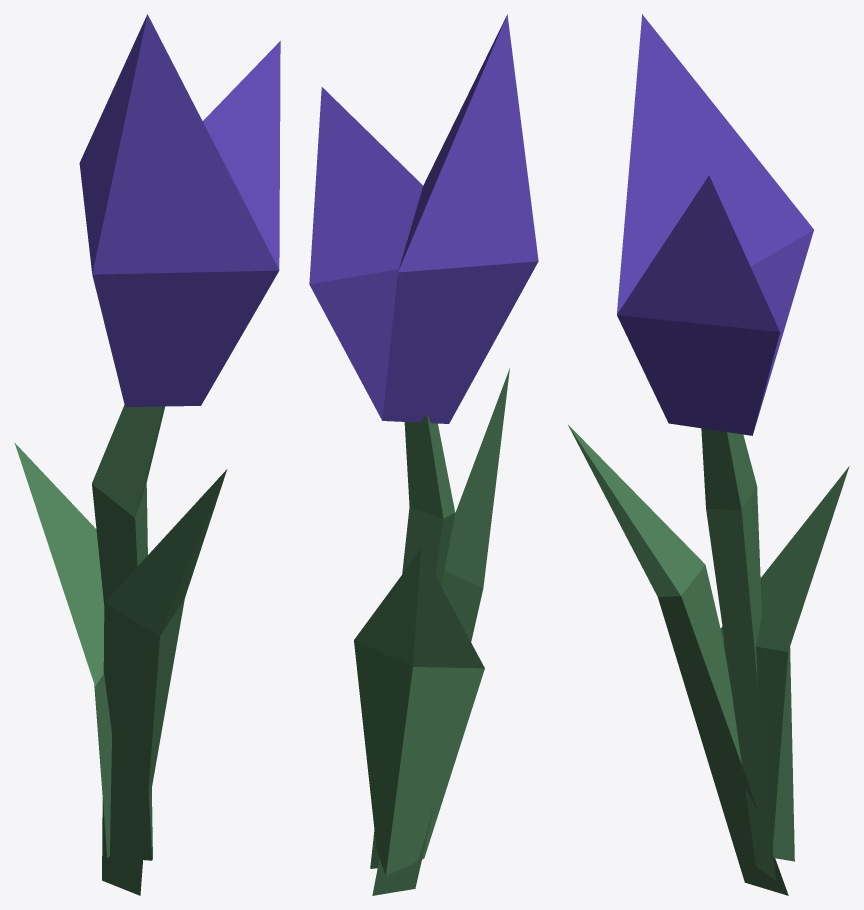
The model's file is msh_Flower02.fbx.
The picture shows the model from 3 angles, left to right: view 1: azimuth 30°, elevation 25°; view 2: azimuth 150°, elevation 25°; view 3: azimuth 270°, elevation 25°; orthographic projection. The views are drawn at different scales.
Parts seen in each view (by area): view 1: Cube.004, Cube.001, Cube.002, Cube.003; view 2: Cube.004, Cube.002, Cube.001, Cube.003; view 3: Cube.004, Cube.001, Cube.003, Cube.002.
Boxes of the visible parts, x1,y1,x2,y2 form: Cube.004: [79, 14, 280, 406]; Cube.001: [102, 469, 227, 895]; Cube.002: [14, 442, 111, 857]; Cube.003: [92, 405, 165, 860]; Cube.004: [309, 14, 538, 423]; Cube.002: [354, 549, 484, 875]; Cube.001: [372, 368, 509, 895]; Cube.003: [370, 414, 455, 868]; Cube.004: [617, 14, 813, 435]; Cube.001: [568, 425, 788, 895]; Cube.003: [701, 428, 775, 879]; Cube.002: [720, 466, 849, 861].
Size of the model in its own units: 34.91 by 146 by 43.9.
